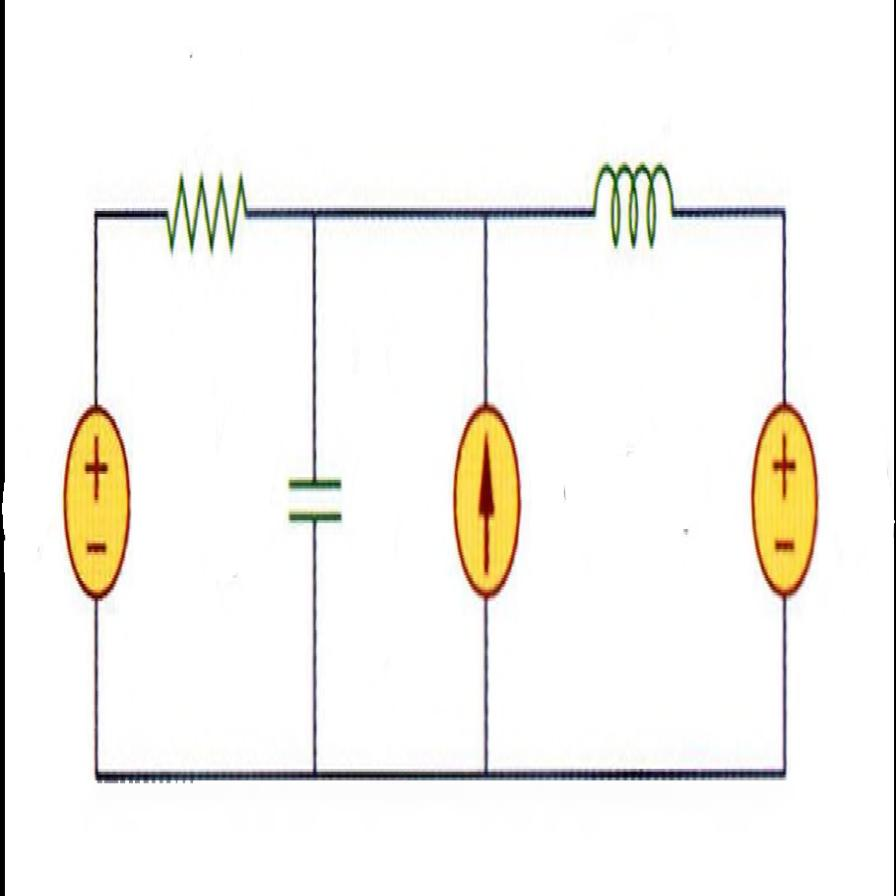C2: (273, 417, 350, 582)
I1: (444, 388, 531, 617)
L1: (577, 132, 683, 291)
R1: (156, 136, 255, 302)
V1: (56, 388, 143, 622), (746, 379, 823, 621)
